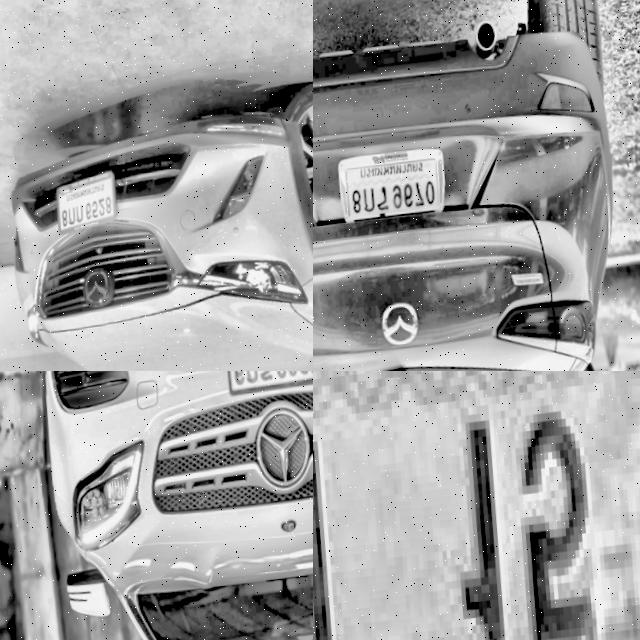license-plate: (313, 371, 640, 640), (327, 133, 463, 234), (54, 173, 122, 236), (224, 371, 313, 399)
